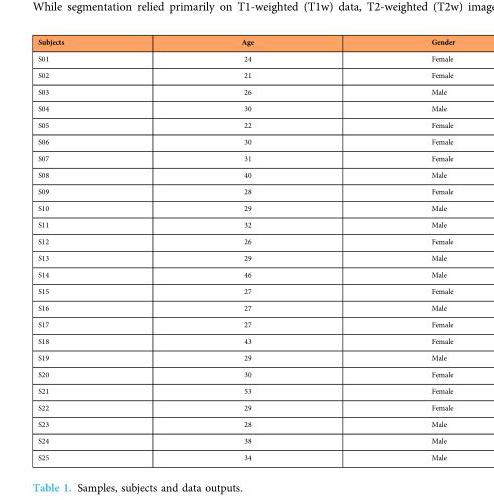table: (37, 37, 454, 461)
table column: (152, 37, 341, 461), (37, 37, 152, 461), (341, 37, 454, 461)
table column header: (37, 37, 454, 49)
table row: (37, 49, 454, 66), (37, 66, 454, 83), (37, 99, 454, 116), (37, 132, 454, 149), (37, 149, 454, 166), (37, 182, 454, 199), (37, 199, 454, 216), (37, 232, 454, 249), (37, 265, 454, 282), (37, 282, 454, 299), (37, 315, 454, 332), (37, 348, 454, 365), (37, 365, 454, 382), (37, 398, 454, 415), (37, 415, 454, 432), (37, 83, 454, 99), (37, 116, 454, 132), (37, 166, 454, 182), (37, 216, 454, 232), (37, 249, 454, 265), (37, 299, 454, 315), (37, 332, 454, 348), (37, 382, 454, 398), (37, 432, 454, 448), (37, 448, 454, 461), (37, 37, 454, 49)
